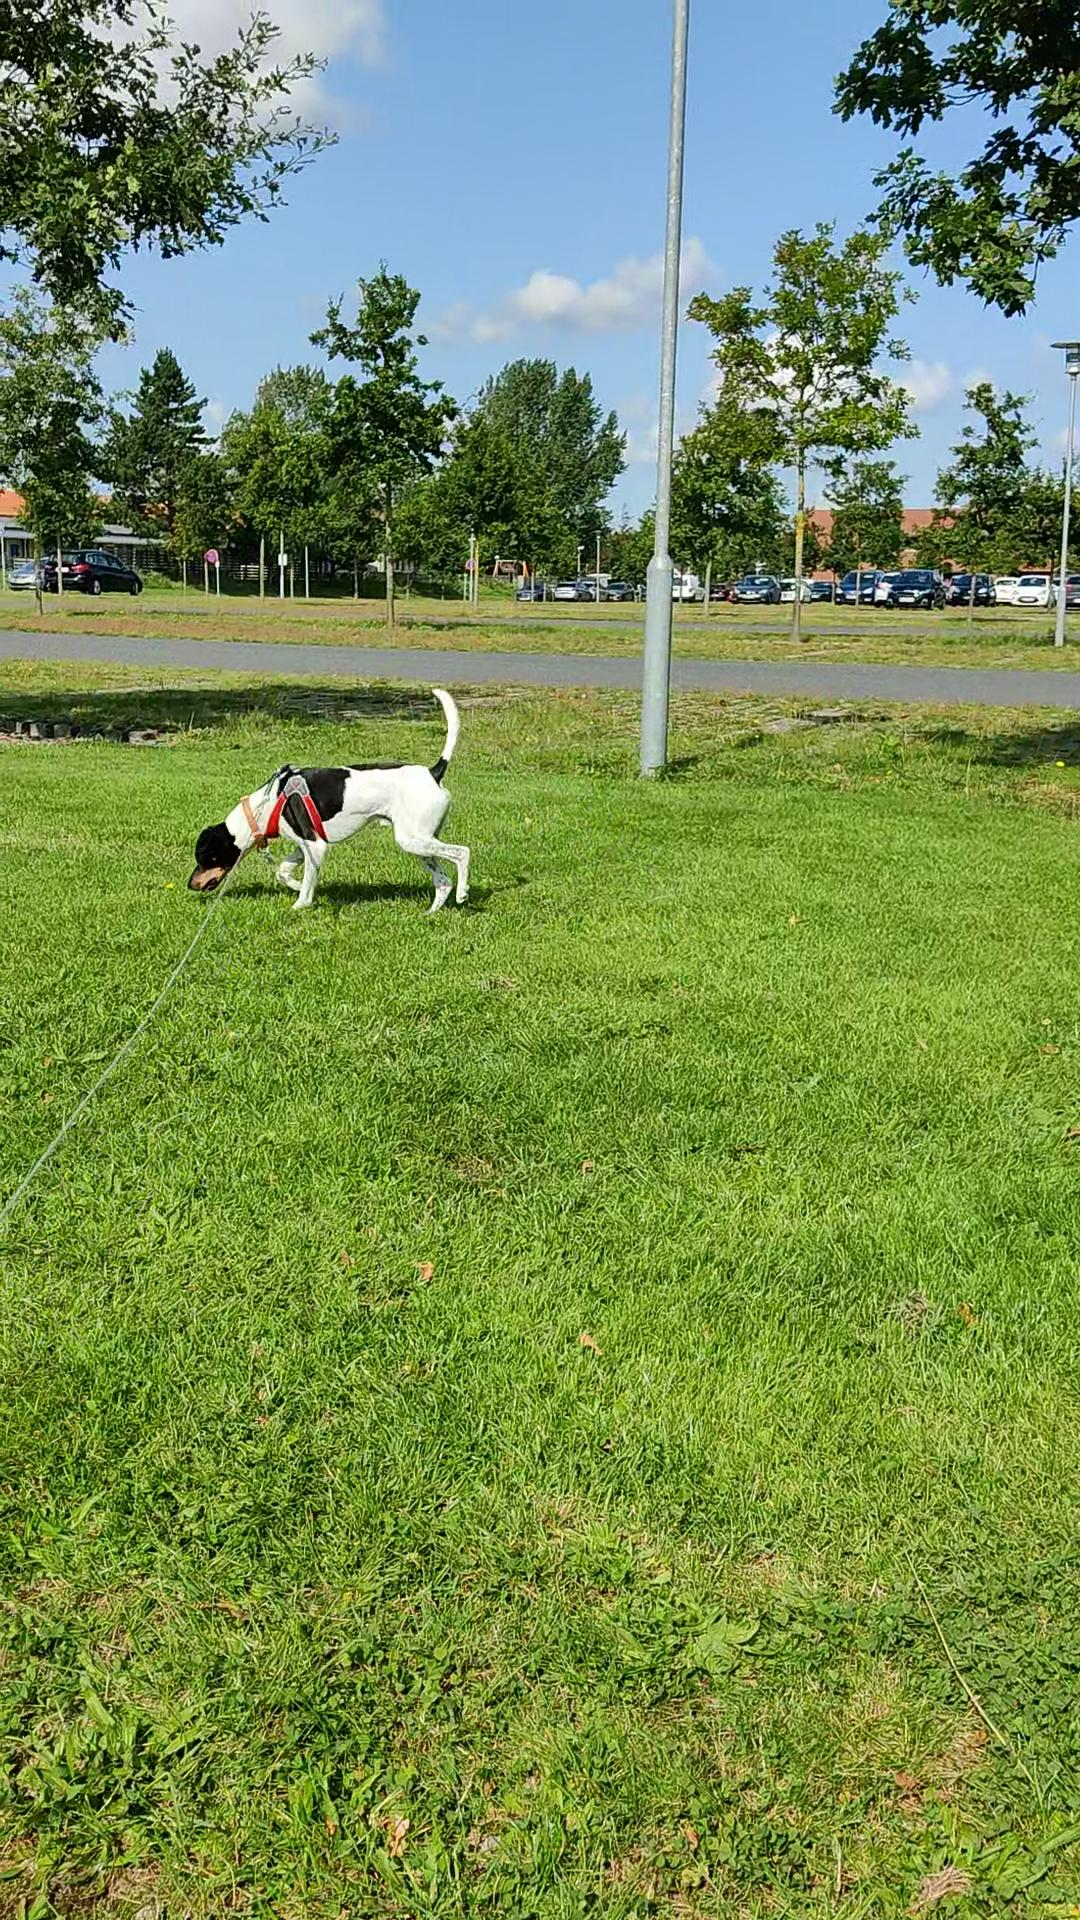Dog: (185, 683, 473, 916)
